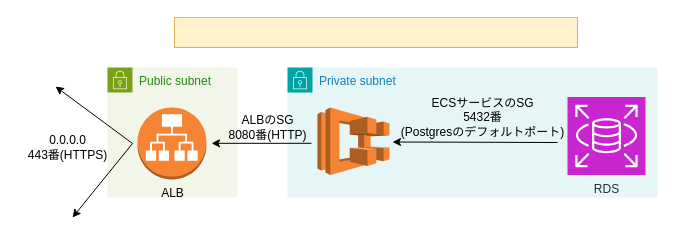
This 675x243 diagram has some shape labels left out. Each missing label, with the centre of its shape:
"ECSサービス" belongs at pixel 353 140.
"SG(セキュリティグループ)のインバウンドルール" belongs at pixel 376 32.
